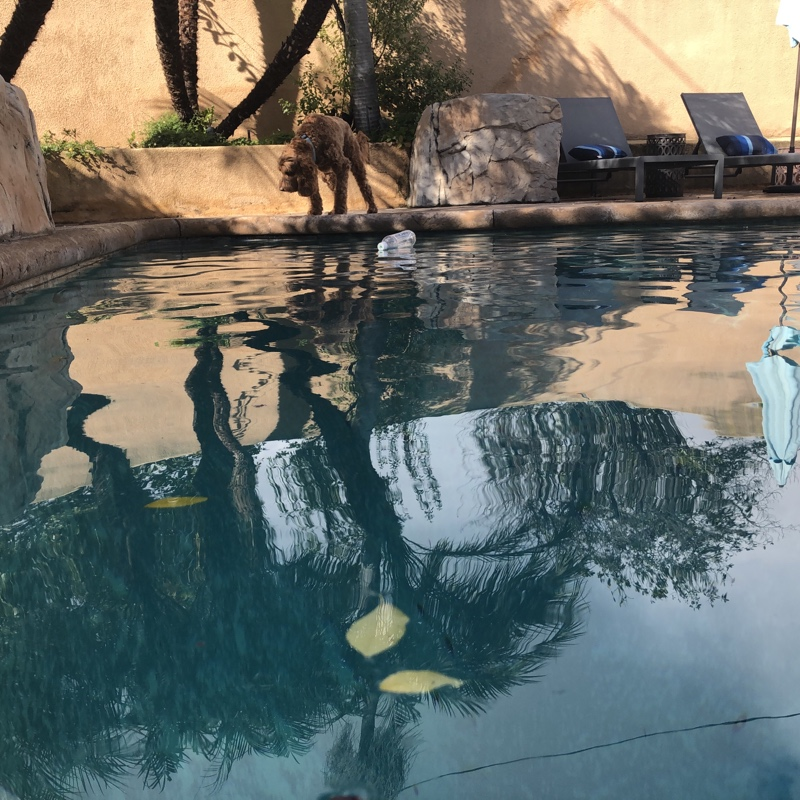Plastic Bottle: (379, 230, 419, 251)
